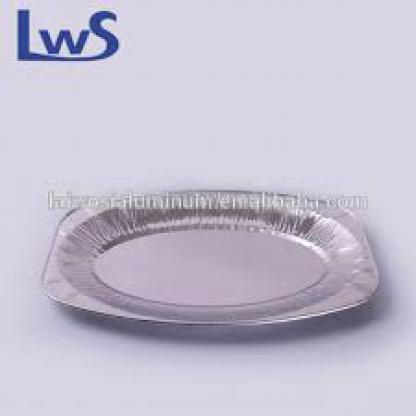METAL: (41, 187, 377, 325)
